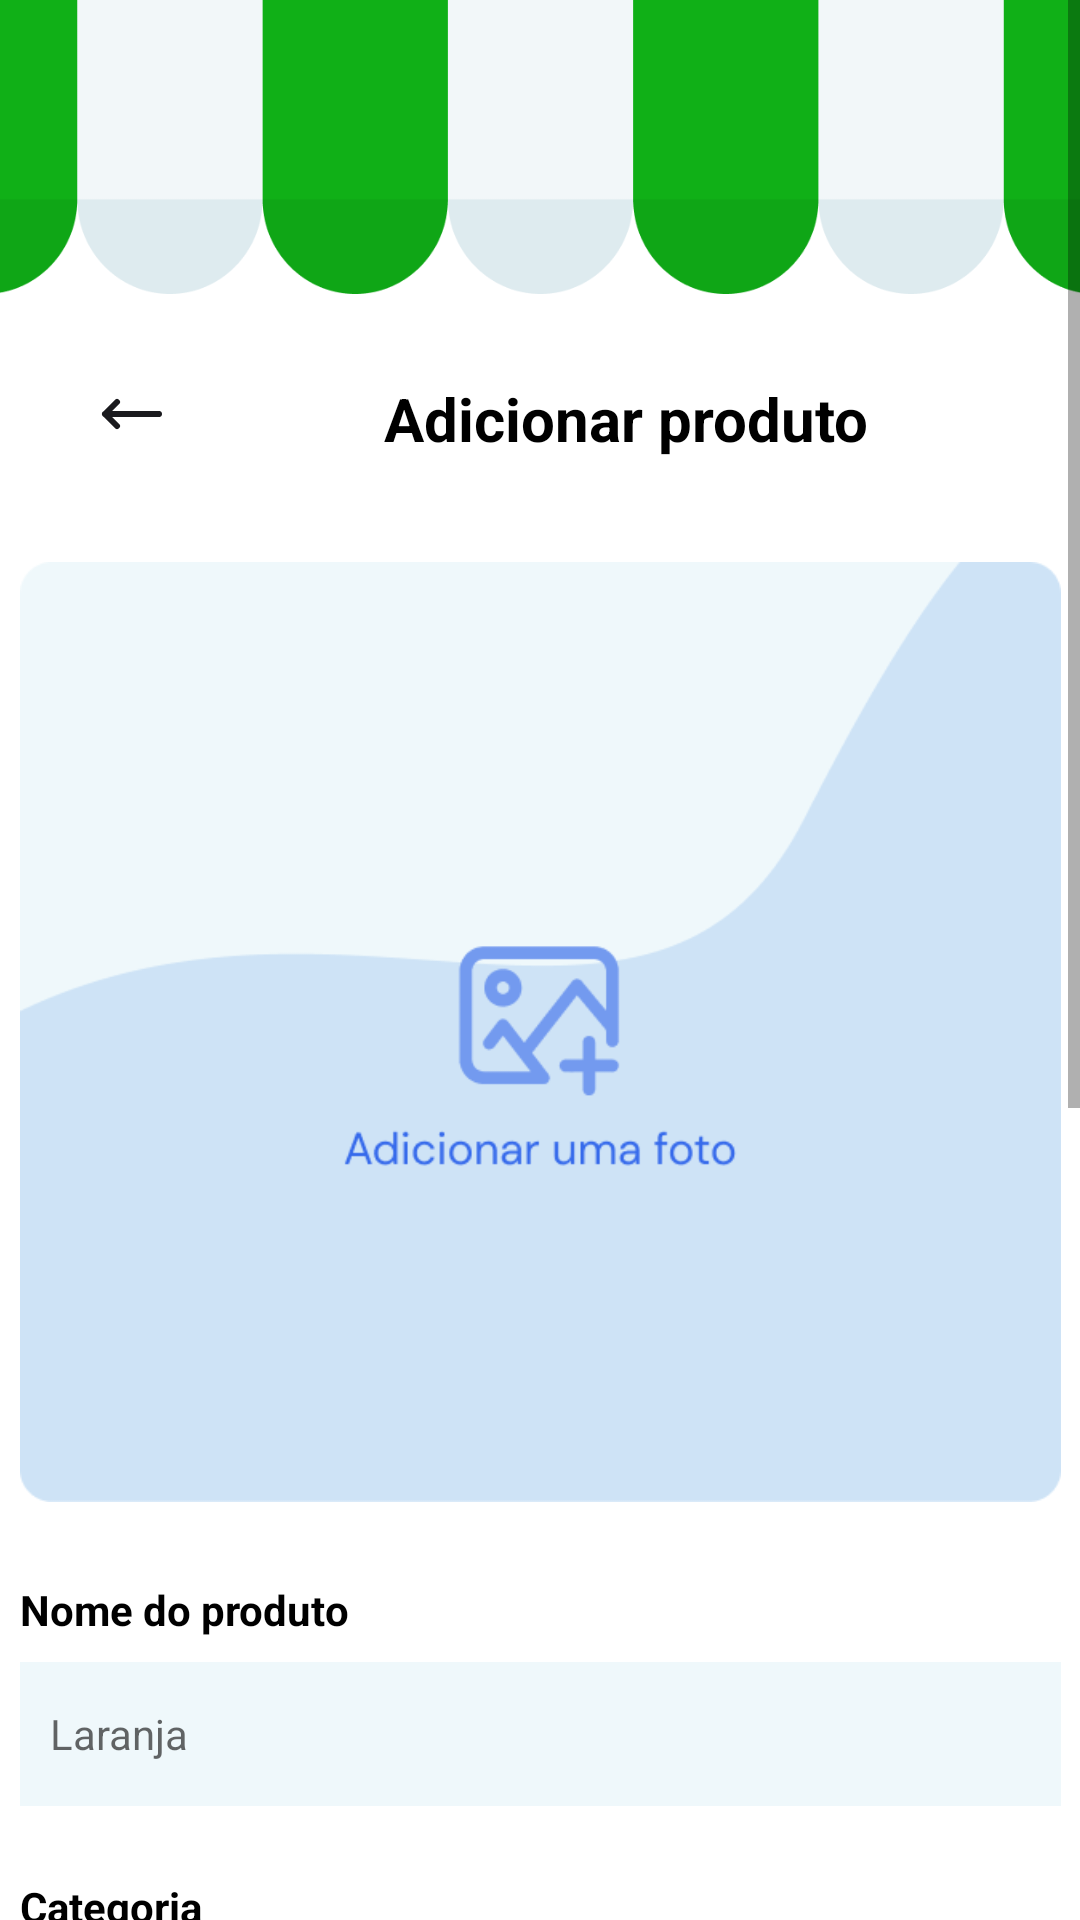

Locate icon controls on the screen. Image size 1080×1920, boxes as (x1, y1, x2, y2).
backarrow: (102, 399, 162, 429)
